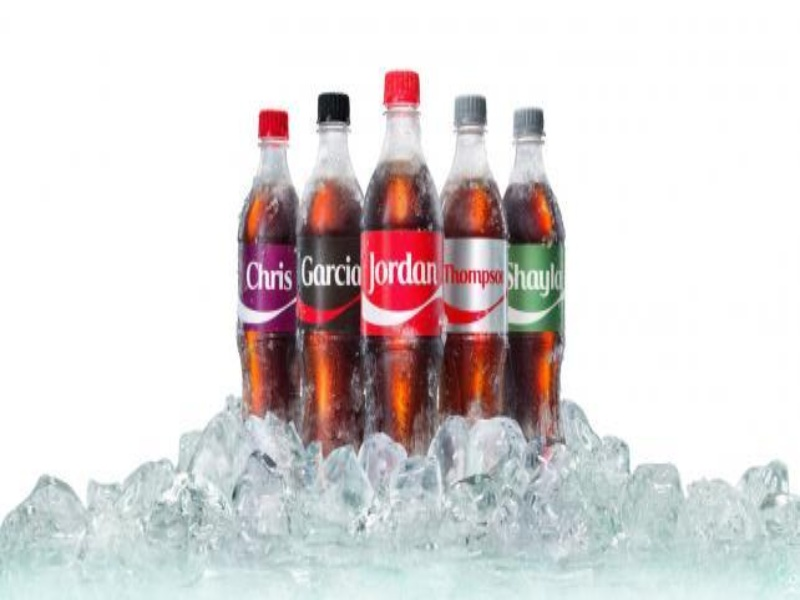Plastic bottle: (267, 82, 394, 467), (182, 90, 317, 410), (406, 60, 521, 423), (484, 78, 594, 448), (358, 39, 455, 456)
